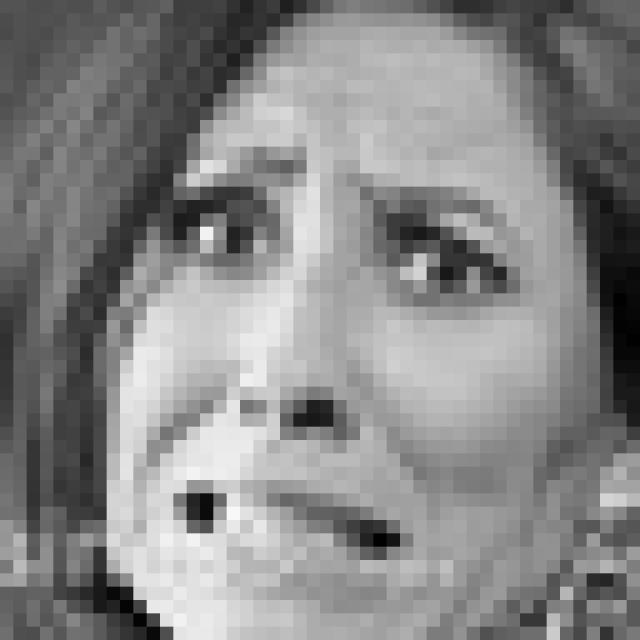fear: (160, 142, 536, 597)
